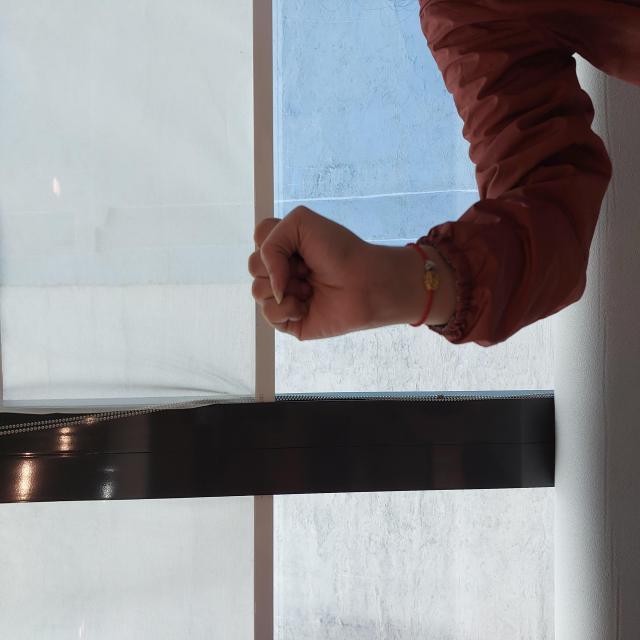S: (296, 245, 439, 381)
